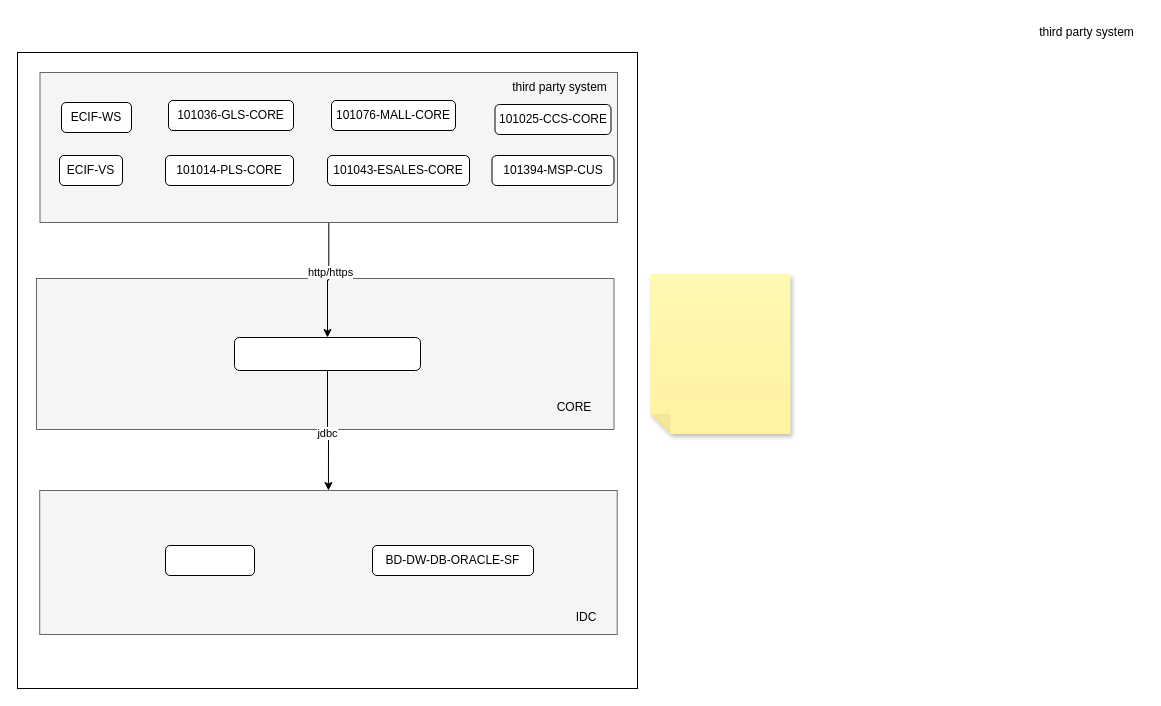
This 1161x706 diagram has some shape labels left out. Here are the shapes that lost their labels. From the top down, the centre of each, then its label:
the point at 327,353: ECIF-CORE-DS-JAR-SF
the point at 721,355: ds提供查询服务， 数据来自rds和ods
the point at 209,560: Impala
